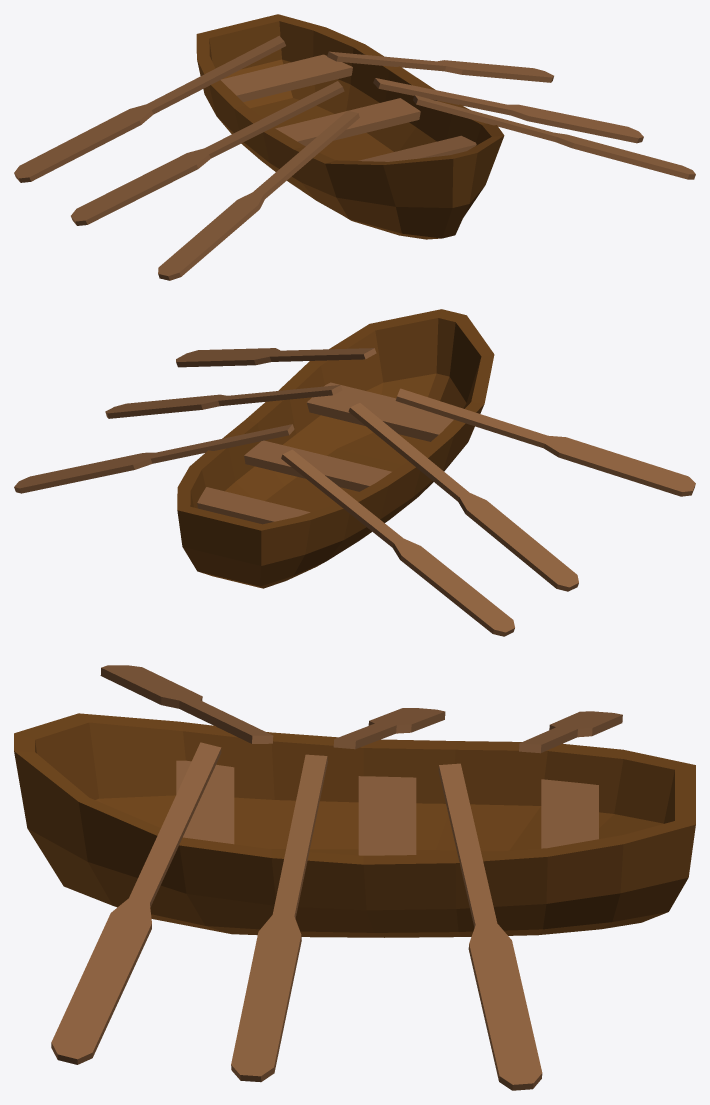
File: RowBoatWithOars.fbx
3 views of the same model, one above another, from view 1: azimuth 30°, elevation 25°; view 2: azimuth 150°, elevation 25°; view 3: azimuth 270°, elevation 25° (orthographic). The views are drawn at different scales.
Parts seen in each view (by area): view 1: RowBoatWithOars; view 2: RowBoatWithOars; view 3: RowBoatWithOars.
Part boxes in pixels (x1,y1,x2,y2): RowBoatWithOars: (14,14,695,280); RowBoatWithOars: (14,309,695,636); RowBoatWithOars: (14,665,695,1090).
Bounding box in the file's own units: 313 × 66.19 × 235.
